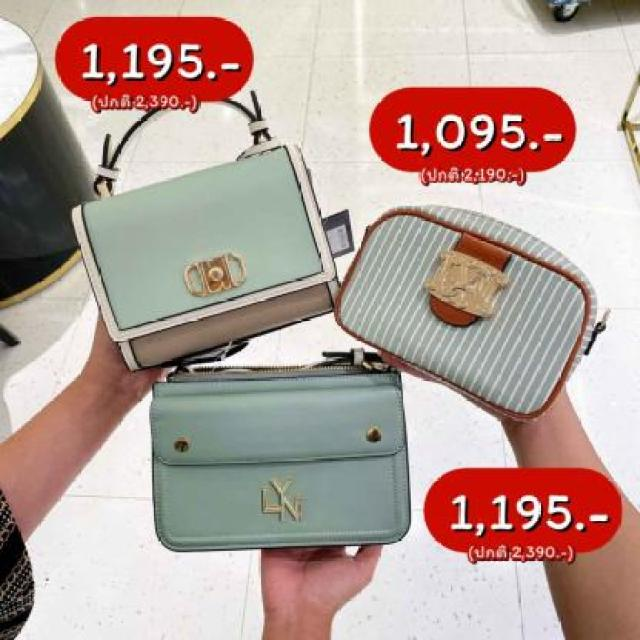Bag: (46, 69, 360, 382), (321, 175, 616, 433), (115, 343, 434, 557)
